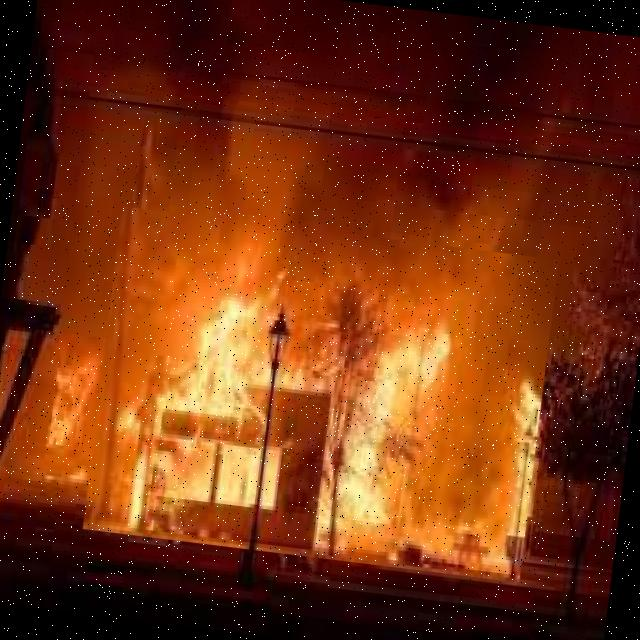fire: (81, 207, 558, 583)
